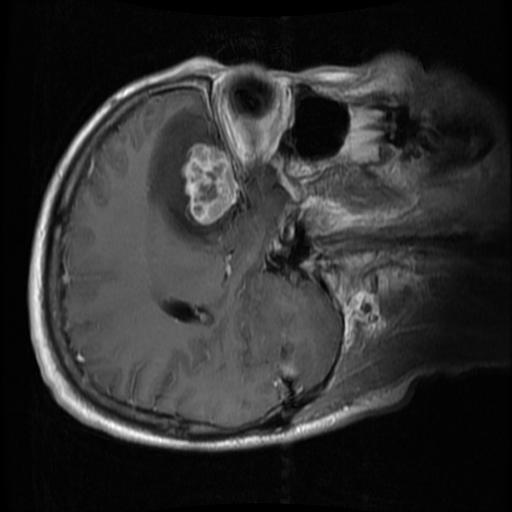meningioma: (179, 142, 240, 225)
